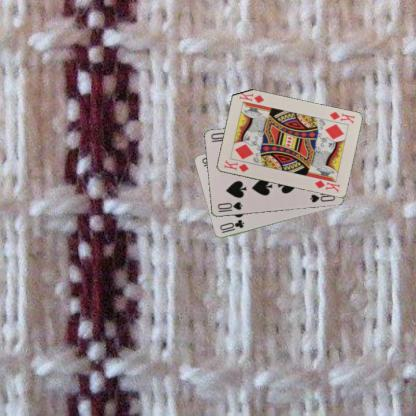10c: (217, 217, 246, 235)
10s: (215, 200, 243, 214)
Kd: (327, 110, 356, 126), (221, 158, 250, 173)
